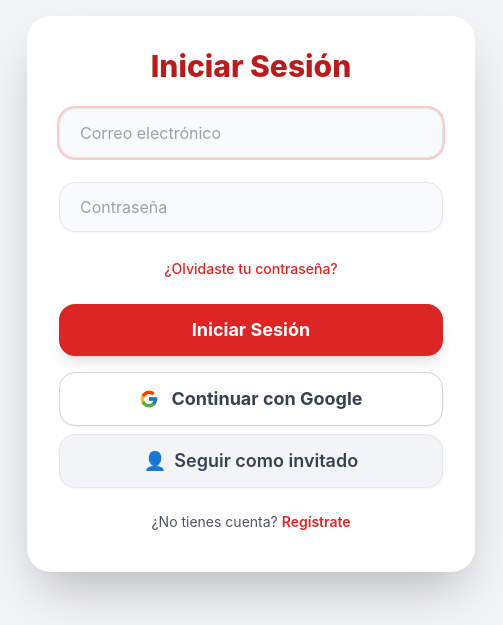
Auth Component › shows forgot password form when clicking forgot password link
The image size is (503, 625).
Click the button "¿Olvidaste tu contraseña?" at [251, 269], box [164, 259, 338, 279]
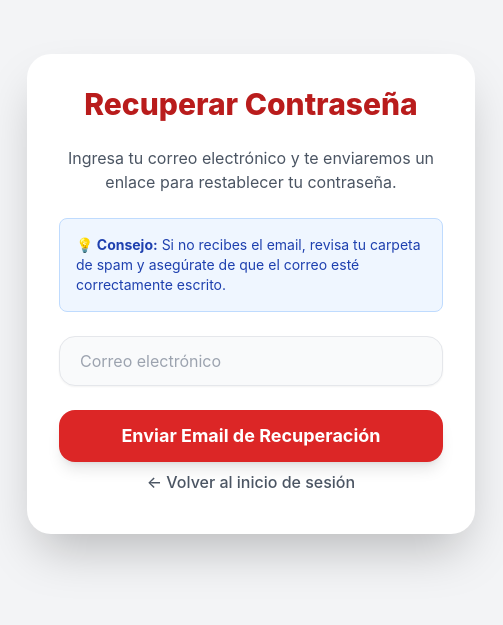
Result: the heading "Recuperar Contraseña" is shown at [84, 86, 418, 122]
Result: the text "Ingresa tu correo electrónico y te enviaremos un enlace para restablecer tu contraseña." is shown at [68, 148, 434, 192]
Result: the button "Enviar Email de Recuperación" is shown at [59, 410, 443, 462]
